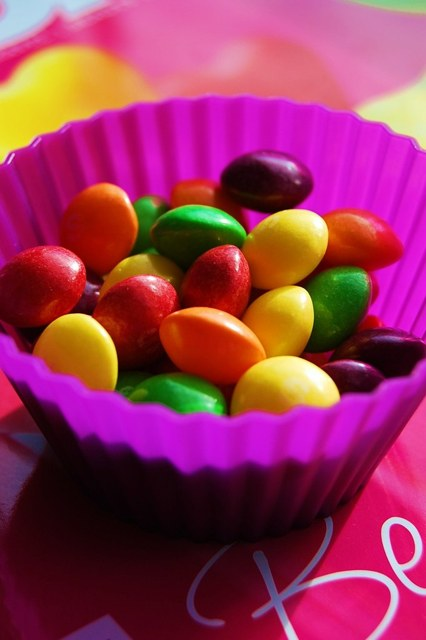bowl: (0, 99, 425, 534)
